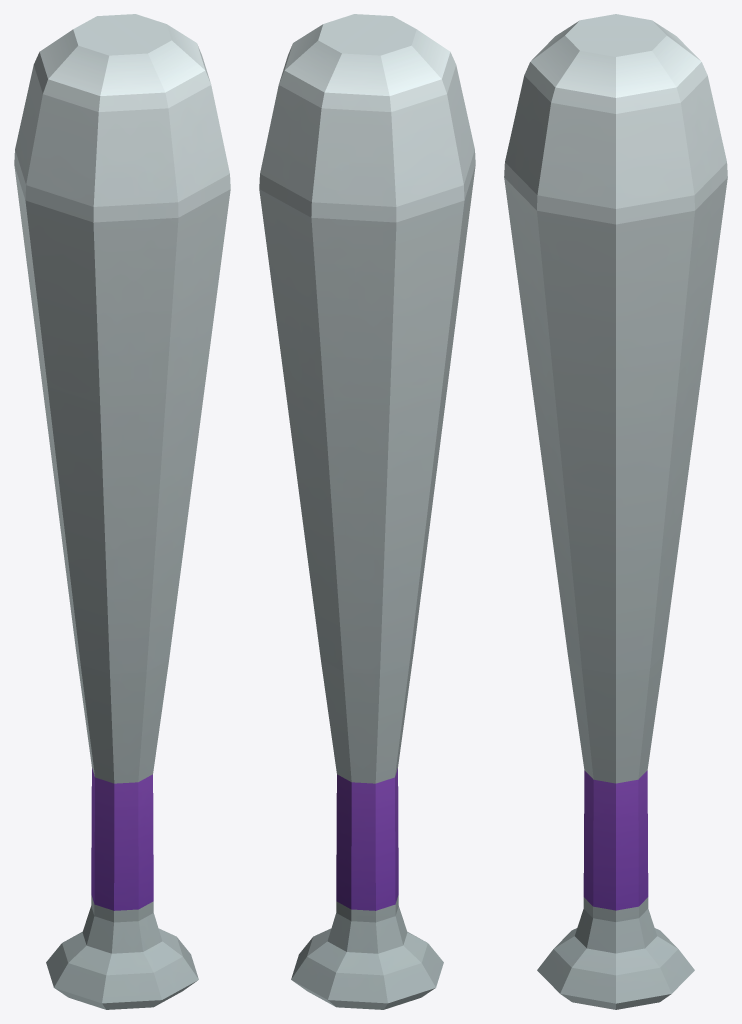
The model's file is SM_BaseballBat.fbx.
3 renders of one model, left to right at view 1: azimuth 30°, elevation 25°; view 2: azimuth 150°, elevation 25°; view 3: azimuth 270°, elevation 25°, orthographic.
Visible parts, largest first — view 1: BaseballBat; view 2: BaseballBat; view 3: BaseballBat.
Boxes of the visible parts, x1,y1,x2,y2 form: BaseballBat: [14, 14, 230, 1009]; BaseballBat: [259, 14, 475, 1009]; BaseballBat: [504, 14, 727, 1009].
Bounding box in the file's own units: 23.94 × 23.94 × 112.
